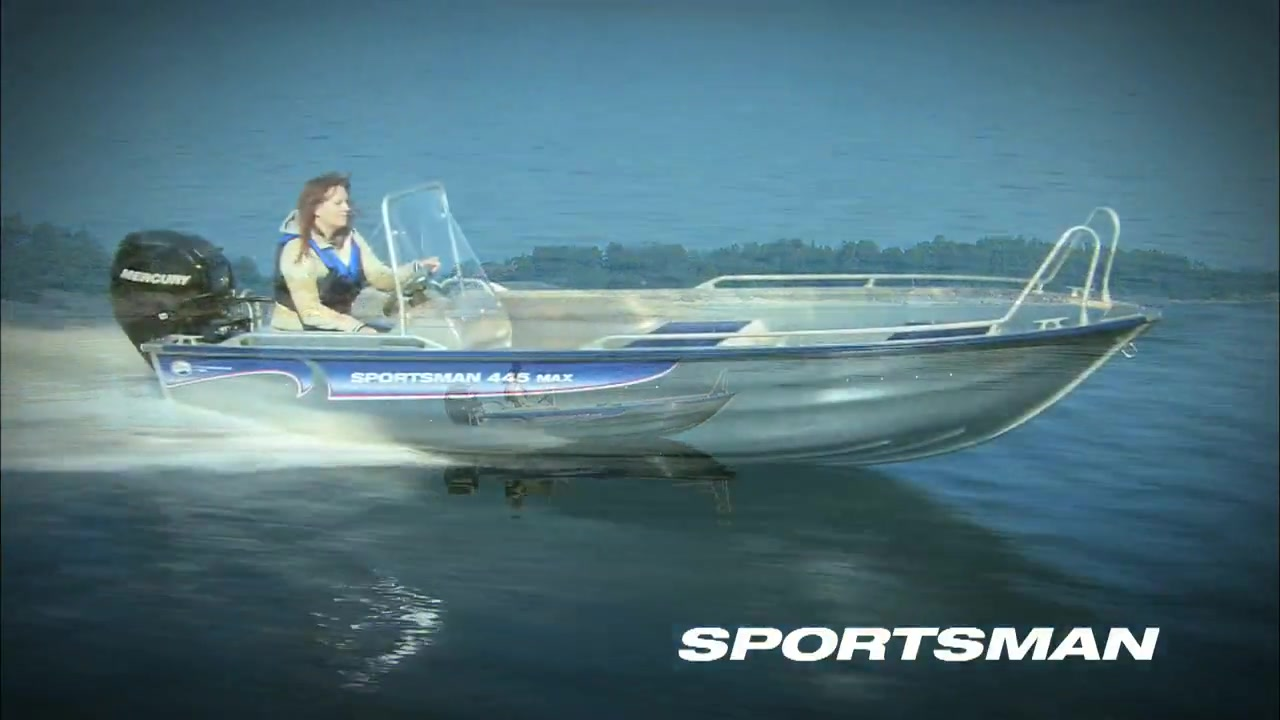boat: (107, 180, 1158, 489)
